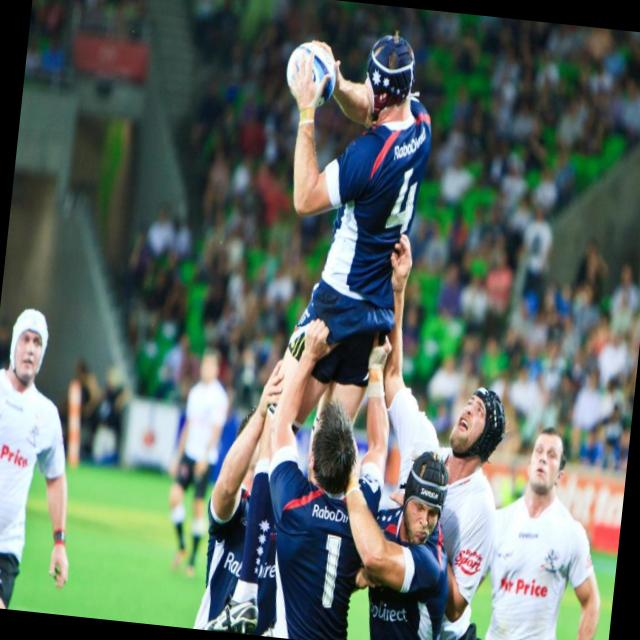Ball: (283, 39, 339, 108)
